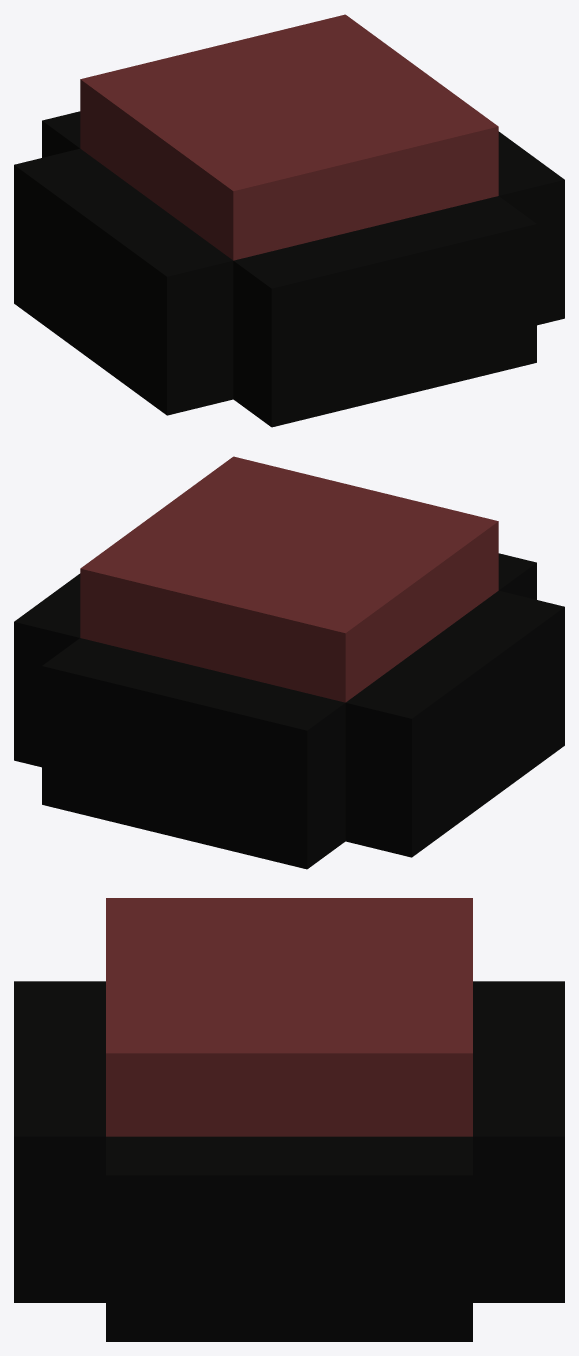
The model's file is character-223-helm_lgt_2a_ja_color.obj.
3 views of the same model, one above another, from view 1: azimuth 30°, elevation 25°; view 2: azimuth 150°, elevation 25°; view 3: azimuth 270°, elevation 25° (orthographic). The views are drawn at different scales.
Visible parts, largest first — view 1: helm_lgt_2a_ja_color; view 2: helm_lgt_2a_ja_color; view 3: helm_lgt_2a_ja_color.
Boxes of the visible parts, x1,y1,x2,y2 form: helm_lgt_2a_ja_color: (14, 14, 564, 427); helm_lgt_2a_ja_color: (14, 456, 564, 869); helm_lgt_2a_ja_color: (14, 898, 564, 1341).
Size of the model in its own units: 0.6 by 0.3 by 0.6.
Materials: 1 (1 with a texture image).
